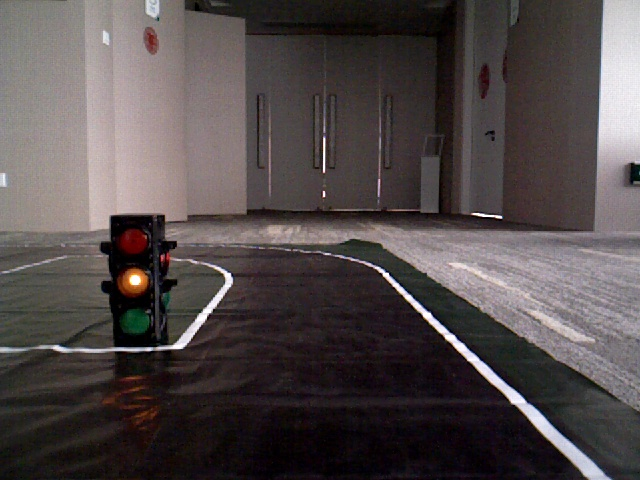yellow: (112, 215, 156, 341)
